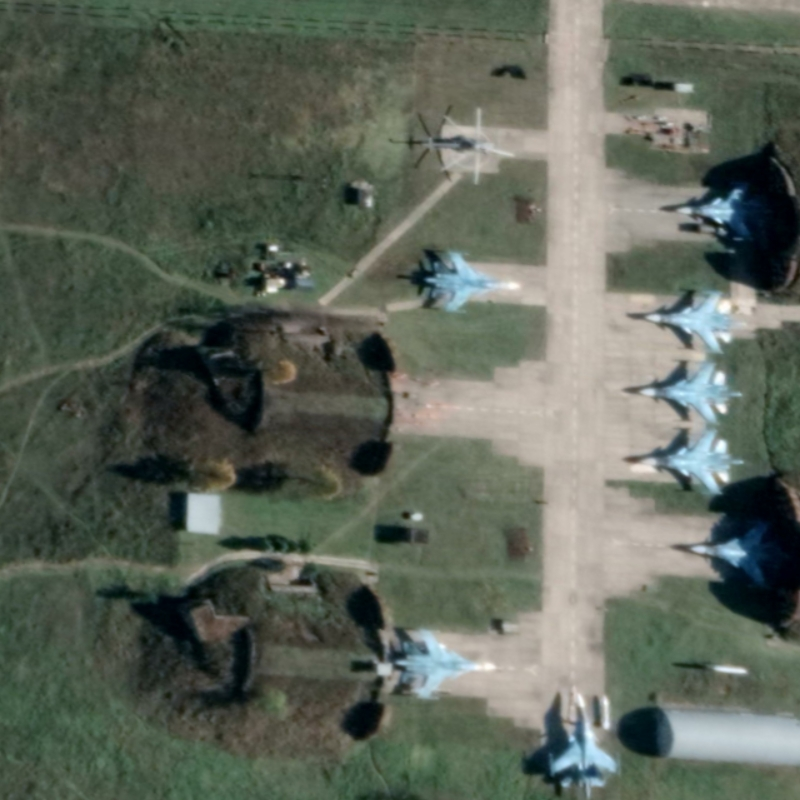A19: (618, 419, 745, 505), (382, 622, 503, 708), (537, 680, 622, 800), (669, 517, 787, 595), (415, 240, 524, 322), (626, 355, 743, 428), (636, 283, 741, 361), (670, 177, 767, 250)
